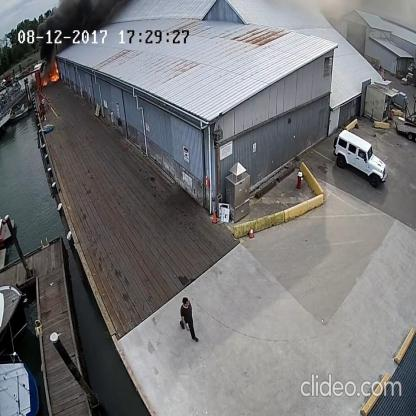fire: (41, 59, 61, 88)
